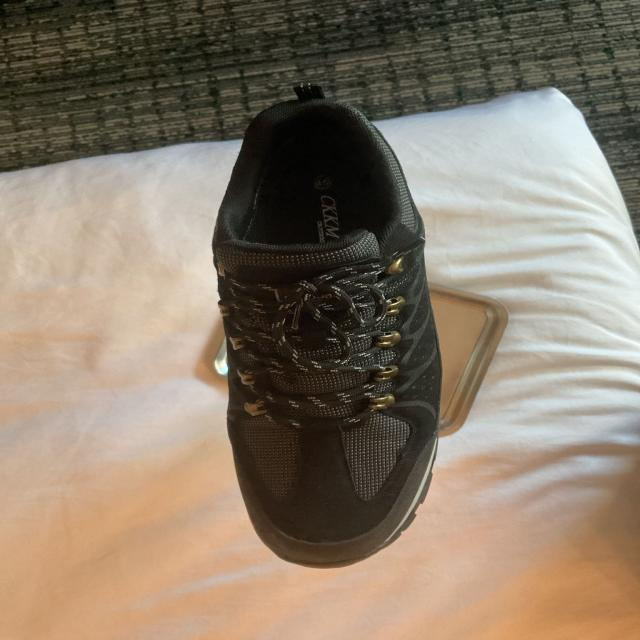shoe: (210, 96, 445, 571)
